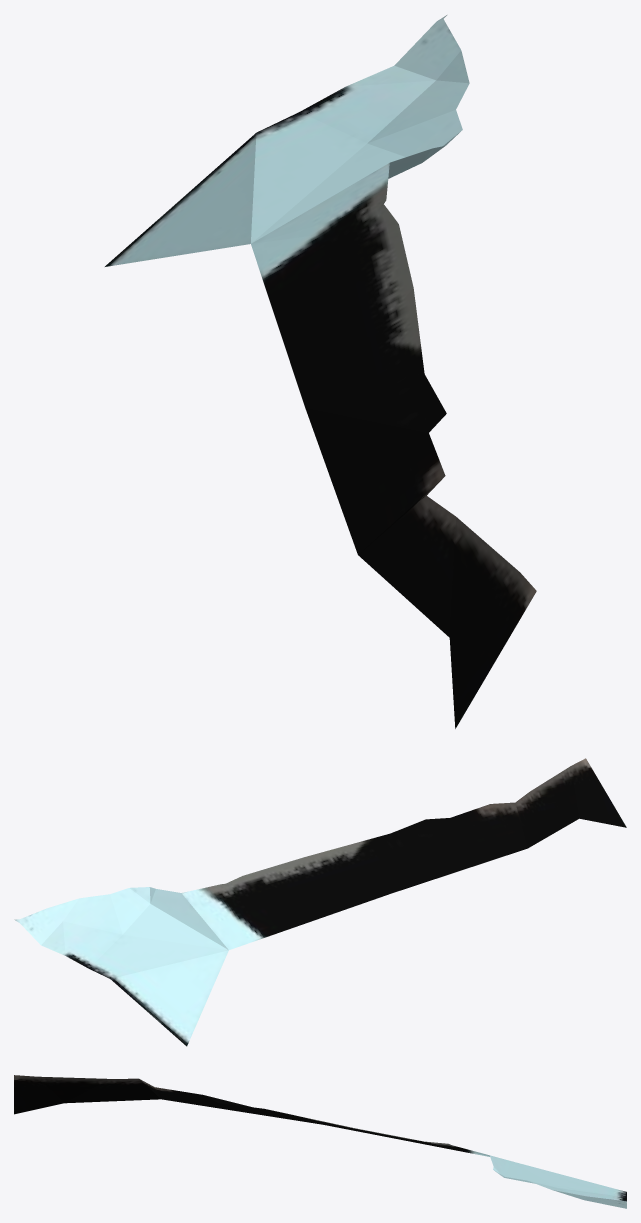
3 views of the same model, one above another, from view 1: azimuth 30°, elevation 25°; view 2: azimuth 150°, elevation 25°; view 3: azimuth 270°, elevation 25° (orthographic). The views are drawn at different scales.
Size of the model in its own units: 1.91 by 0.5089 by 3.35.
1 material, 1 textured.
